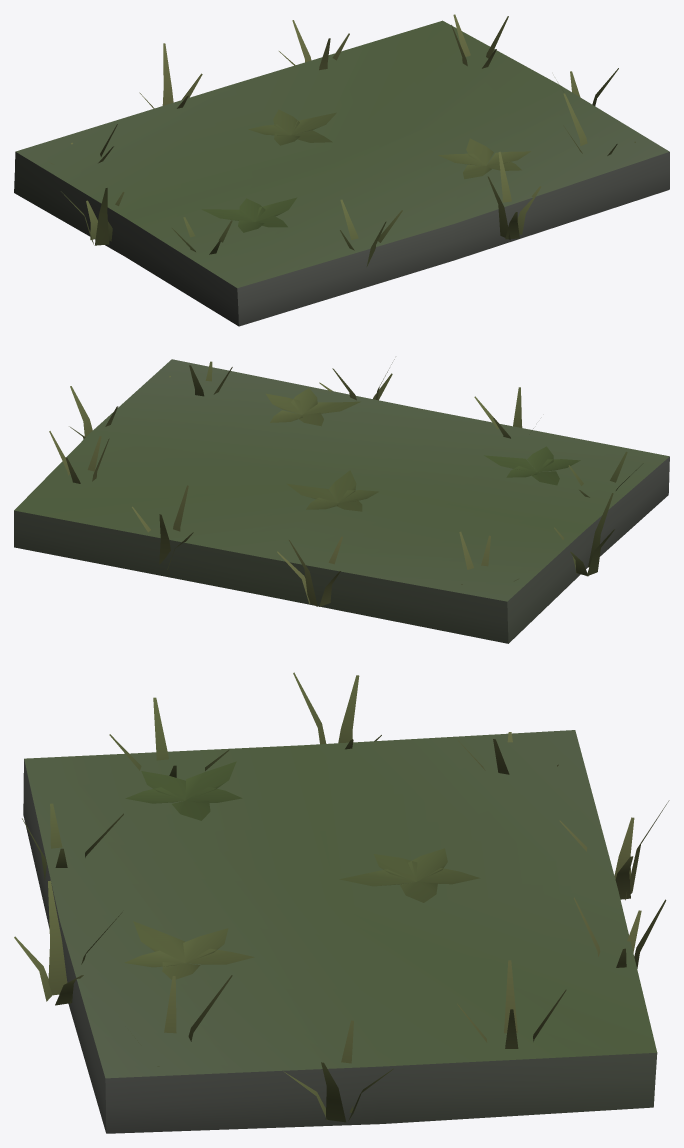
The model's file is ph_prop_build_site_slab.glb.
The picture shows the model from 3 angles, top to bottom: view 1: azimuth 30°, elevation 25°; view 2: azimuth 150°, elevation 25°; view 3: azimuth 270°, elevation 25°; orthographic projection. The views are drawn at different scales.
Visible parts, largest first — view 1: ph_prop_build_site_slab; view 2: ph_prop_build_site_slab; view 3: ph_prop_build_site_slab.
Boxes of the visible parts, x1,y1,x2,y2 form: ph_prop_build_site_slab: (14, 14, 669, 326); ph_prop_build_site_slab: (14, 359, 669, 643); ph_prop_build_site_slab: (14, 672, 669, 1133).
Bounding box in the file's own units: 1.18 × 0.1768 × 0.8517.
